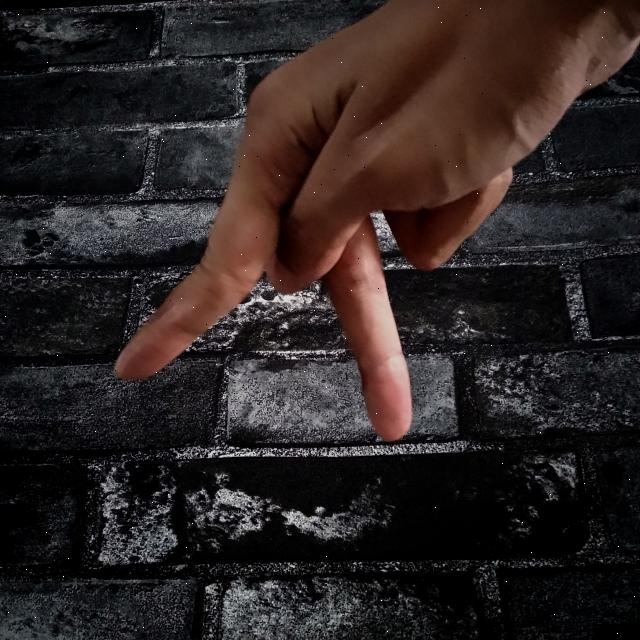P: (106, 0, 640, 449)
